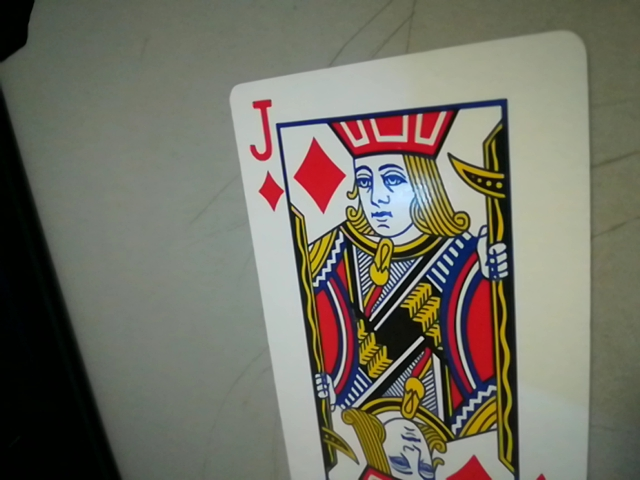fk j: (238, 92, 287, 215)
